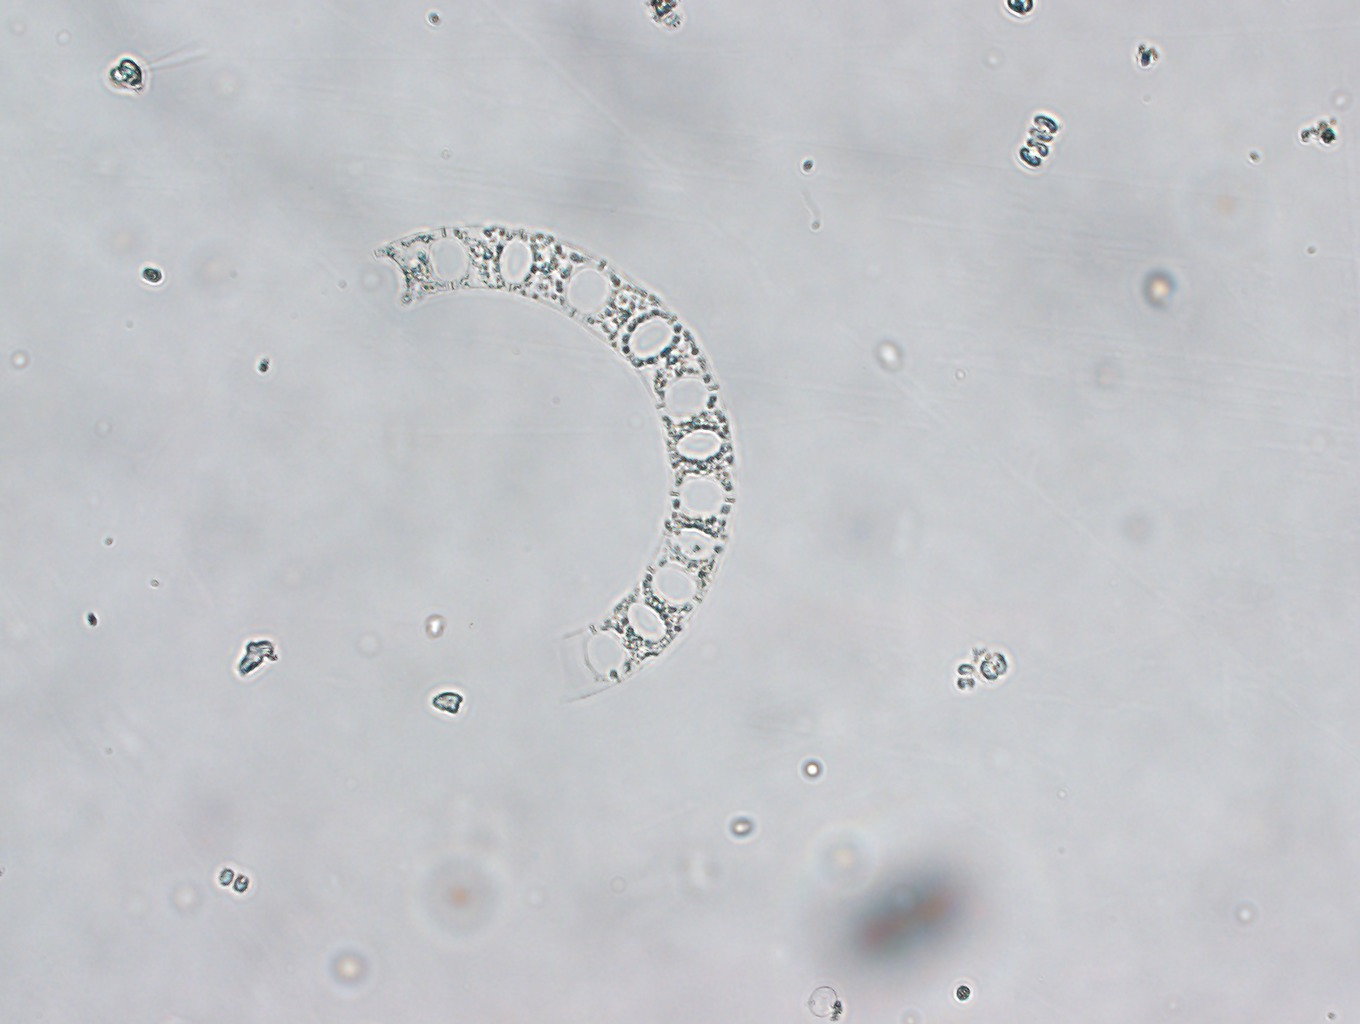eucampia: (355, 216, 742, 703)
